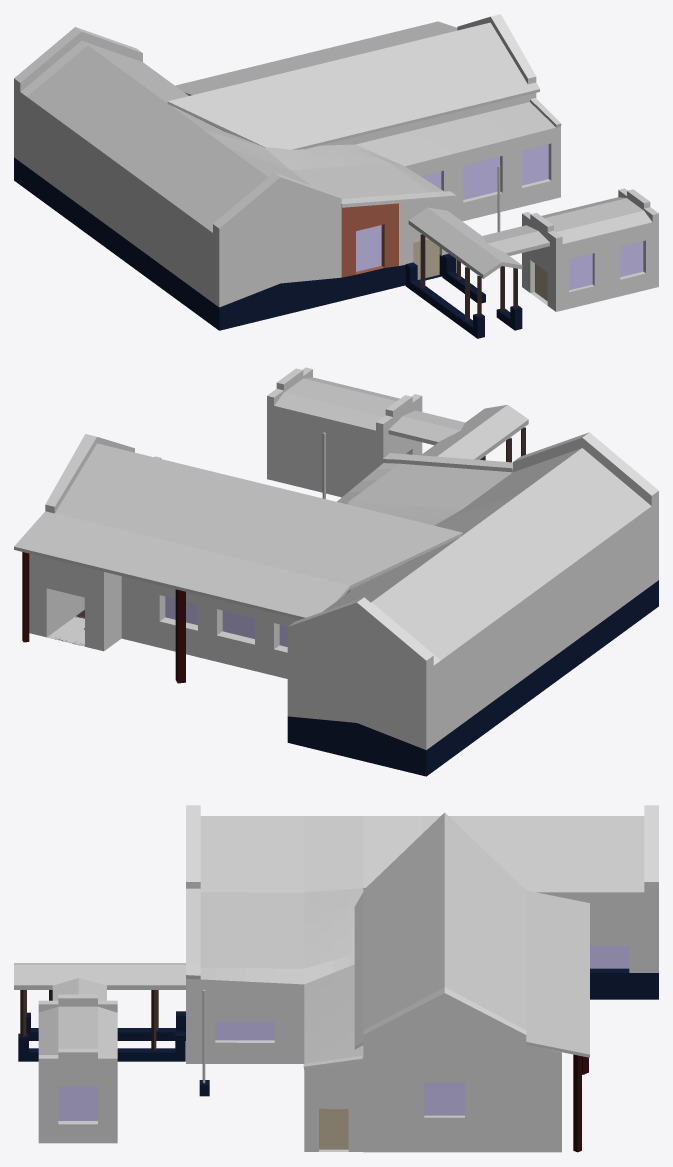
File: unidadSanitaria.gltf
3 renders of one model, top to bottom at view 1: azimuth 30°, elevation 25°; view 2: azimuth 150°, elevation 25°; view 3: azimuth 270°, elevation 25°, orthographic. The views are drawn at different scales.
Parts seen in each view (by area): view 1: Cube, Cube.001, Cube.003, Cube.002, Cube.004; view 2: Cube, Cube.001, Cube.003, Cube.002, Cube.004; view 3: Cube, Cube.001, Cube.003, Cube.002, Cube.004.
Boxes of the visible parts, x1,y1,x2,y2 form: Cube: (14,27,561,330); Cube.001: (167,14,539,149); Cube.003: (522,188,658,311); Cube.002: (405,207,522,338); Cube.004: (482,225,549,255); Cube: (154,432,658,776); Cube.001: (14,434,462,683); Cube.003: (267,367,422,497); Cube.002: (421,404,528,462); Cube.004: (388,410,464,445); Cube: (186,805,658,1151); Cube.001: (354,812,589,1152); Cube.003: (38,994,117,1143); Cube.002: (14,963,185,1061); Cube.004: (52,978,106,1000).
Size of the model in its own units: 7.14 by 2.42 by 8.78.
